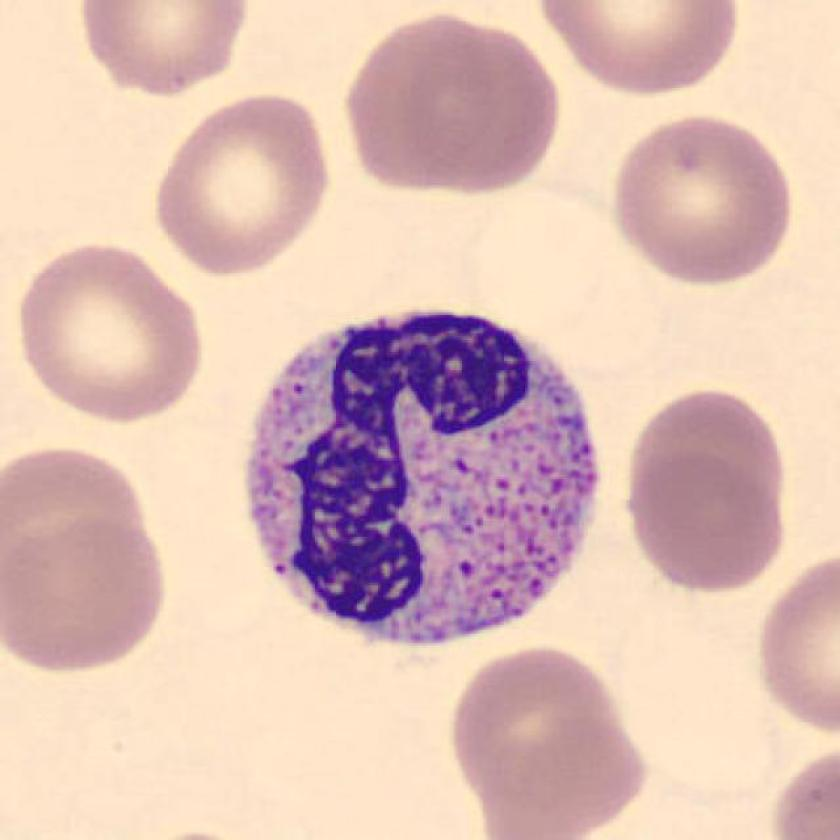neutrophil: (244, 311, 597, 643)
